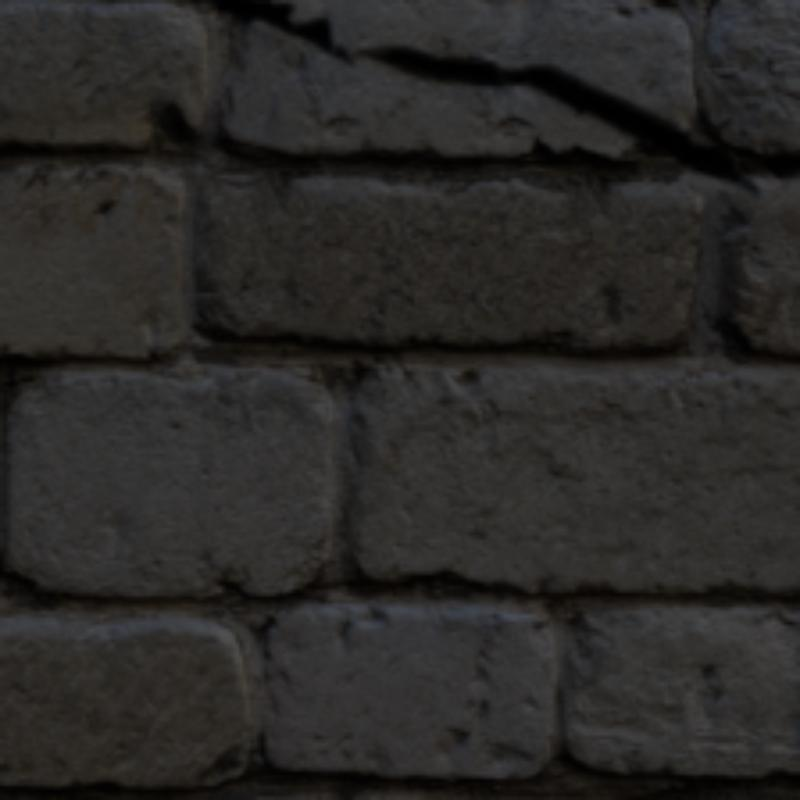crack: (207, 1, 796, 193)
